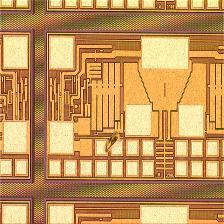PARTICLE: (102, 129, 126, 155)
